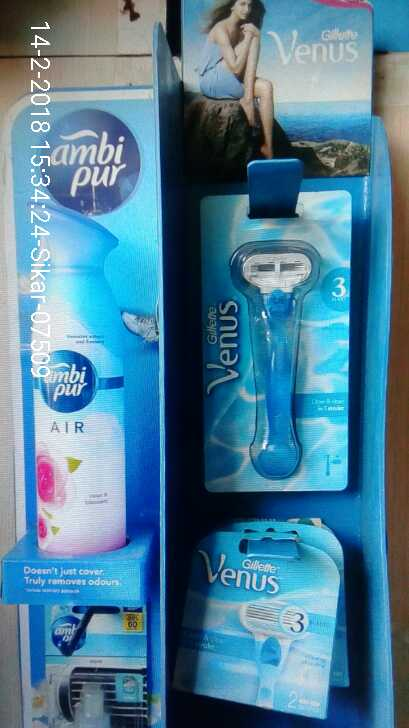beauty: (204, 188, 354, 492), (204, 526, 343, 719)
home: (33, 194, 137, 550)
